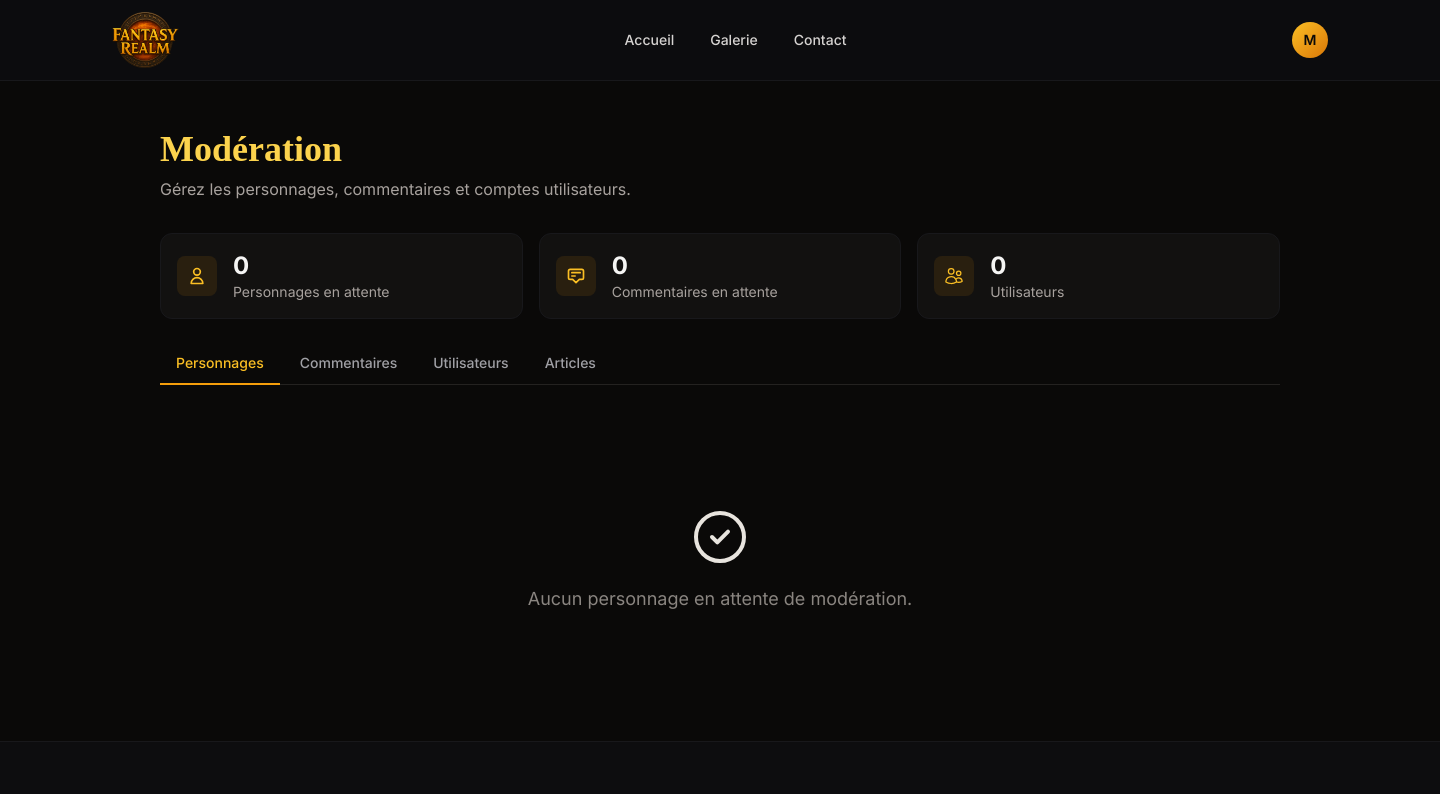
Scenario: ModerationPage › comments tab › should show error when comment fetch fails
The image size is (1440, 794).
Click the tab "Commentaires" at (349, 364), box [284, 343, 413, 385]
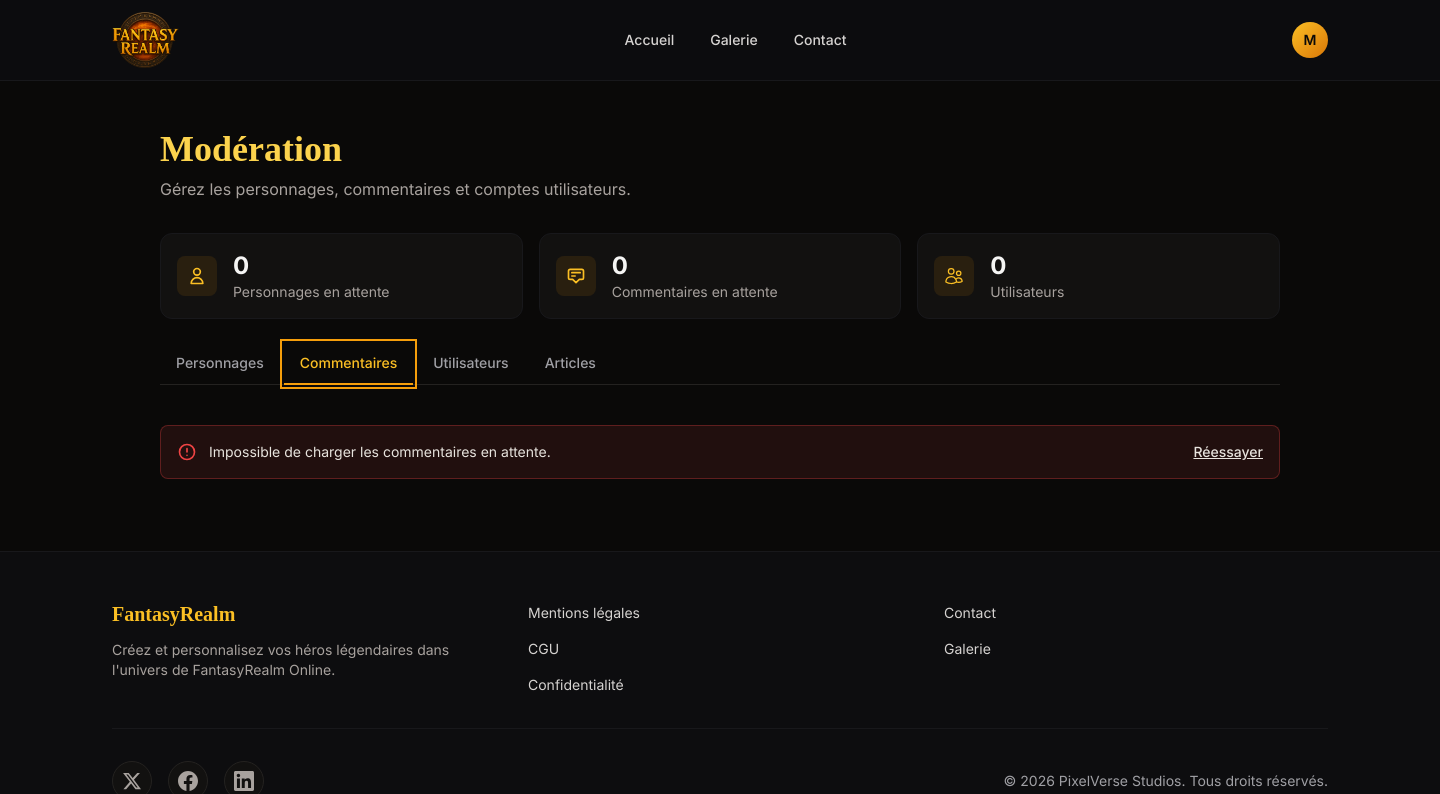
Check: the text "Impossible de charger les commentaires en attente." is shown, box [209, 442, 551, 462]
